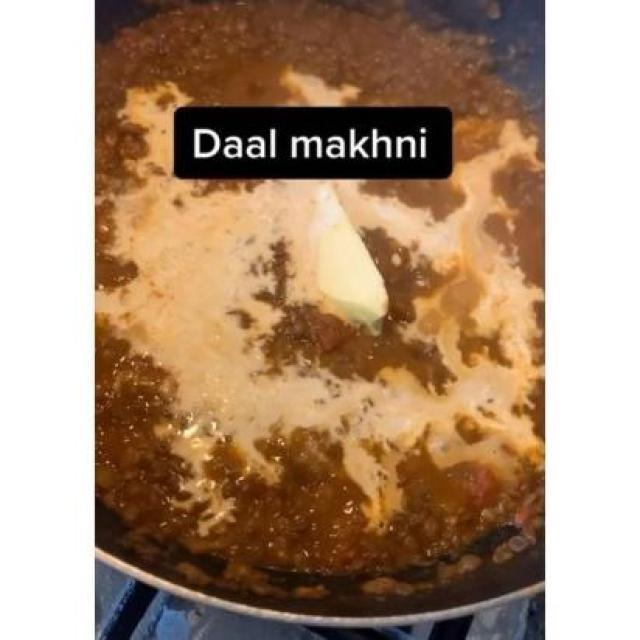dalmakhani: (109, 323, 512, 558)
